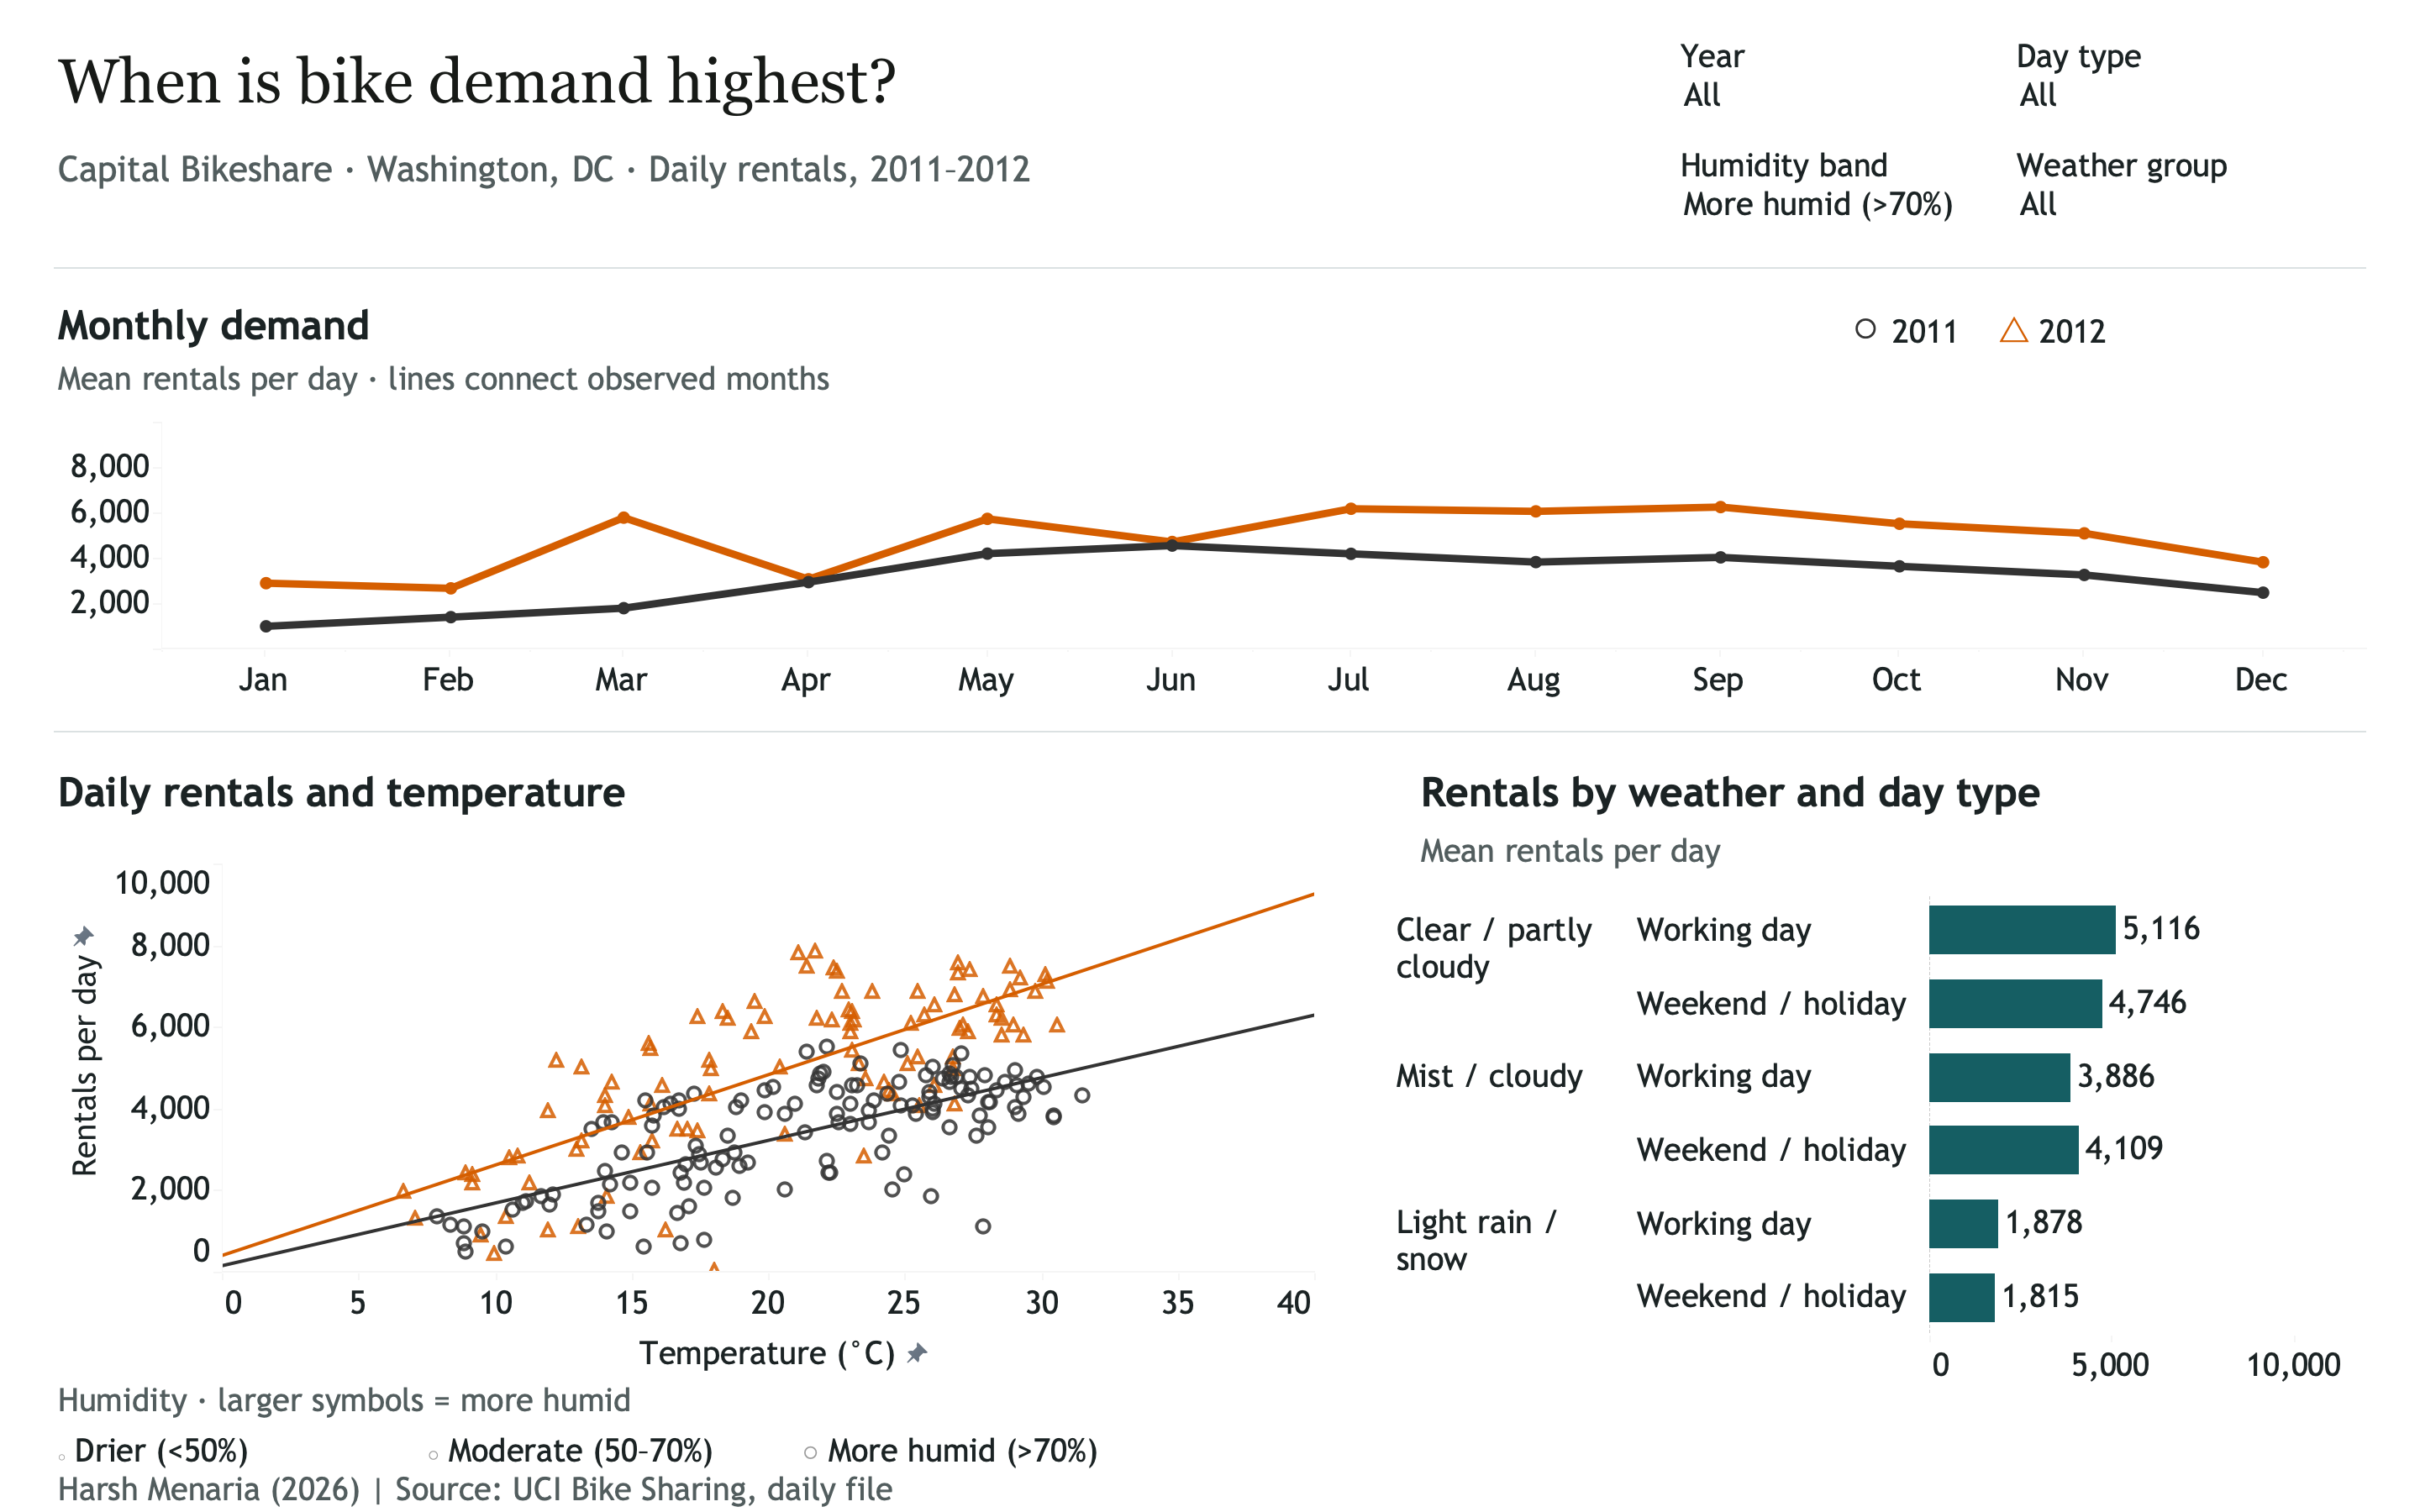

What the dashboard file says about the page in this screenshot:
{"tool":"tableau","page":{"name":"Bike demand | Prototype","canvas":[1440,900],"ordinal":0},"visuals":[{"type":"blank","box":[0,0,1440,900]},{"type":"filter","title":"01 Monthly demand","param":"[federated.bike_demand].[none:Year:nk]","box":[1000,21,180,54]},{"type":"filter","title":"01 Monthly demand","param":"[federated.bike_demand].[none:DayType:nk]","box":[1200,21,208,54]},{"type":"text","box":[32,23,925,52]},{"type":"text","box":[32,86,925,30]},{"type":"filter","title":"02 Temperature and rentals","param":"[federated.bike_demand].[none:Calculation_1907443823489024:nk]","box":[1000,86,180,54]},{"type":"filter","title":"01 Monthly demand","param":"[federated.bike_demand].[none:Weather:nk]","box":[1200,86,208,54]},{"type":"blank","box":[32,159,1376,1]},{"type":"text","box":[1100,178,308,34]},{"type":"text","box":[32,179,1376,29]},{"type":"text","box":[32,214,1376,24]},{"type":"worksheet","title":"01 Monthly demand","mark":"Line","rows":["DailyRentals"],"cols":["Calculation_1435546893139968"],"box":[32,251,1376,165]},{"type":"blank","box":[32,435,1376,1]},{"type":"text","box":[32,457,750,29]},{"type":"text","box":[843,457,565,29]},{"type":"text","box":[843,492,565,30]},{"type":"worksheet","title":"02 Temperature and rentals","mark":"Shape","rows":["DailyRentals"],"cols":["TemperatureC"],"box":[32,514,750,310]},{"type":"worksheet","title":"03 Weather and day type","mark":"Bar","rows":["Weather","DayType"],"cols":["DailyRentals"],"box":[825,532,583,292]},{"type":"text","box":[32,819,600,30]},{"type":"text","box":[32,846,216,35]},{"type":"text","box":[252,846,223.2,35]},{"type":"text","box":[475.2,846,302.4,35]},{"type":"text","box":[32,875,1376,23]}]}

Visuals, with their boxes in screenshot pixels (x1, y1, x2, y2), scaled from the page's 1440x900 canvas onto the 2420x1512 screenshot:
blank: 0/0/2419/1511
"01 Monthly demand" filter: 1681/35/1983/126
"01 Monthly demand" filter: 2017/35/2366/126
text: 54/39/1608/126
text: 54/144/1608/195
"02 Temperature and rentals" filter: 1681/144/1983/235
"01 Monthly demand" filter: 2017/144/2366/235
blank: 54/267/2366/269
text: 1849/299/2366/356
text: 54/301/2366/349
text: 54/360/2366/400
"01 Monthly demand" worksheet (Line marks): 54/422/2366/699
blank: 54/731/2366/732
text: 54/768/1314/816
text: 1417/768/2366/816
text: 1417/827/2366/877
"02 Temperature and rentals" worksheet (Shape marks): 54/864/1314/1384
"03 Weather and day type" worksheet (Bar marks): 1386/894/2366/1384
text: 54/1376/1062/1426
text: 54/1421/417/1480
text: 423/1421/798/1480
text: 798/1421/1307/1480
text: 54/1470/2366/1509
